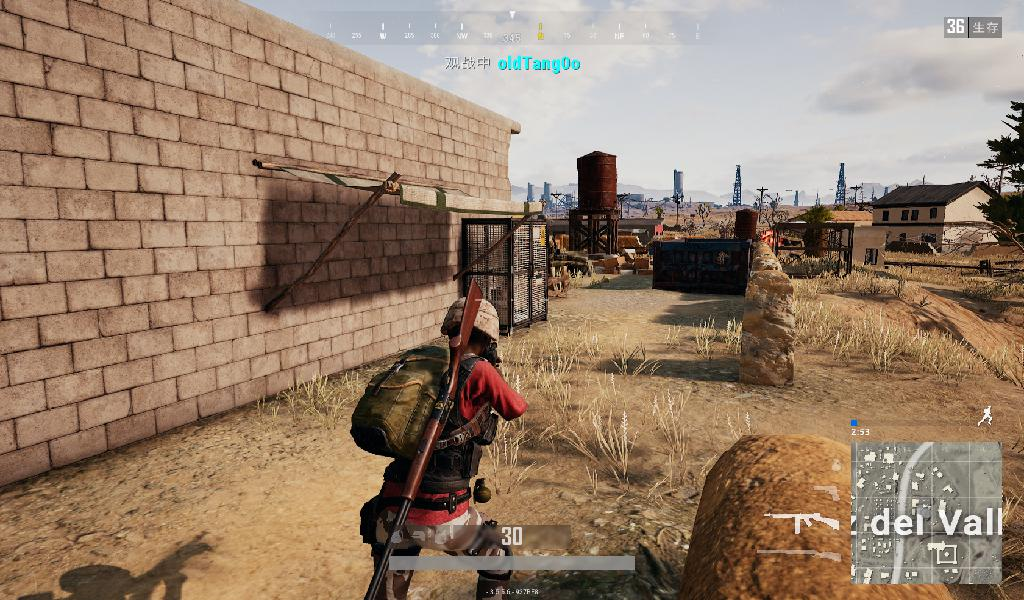Target Person: (349, 276, 531, 600)
